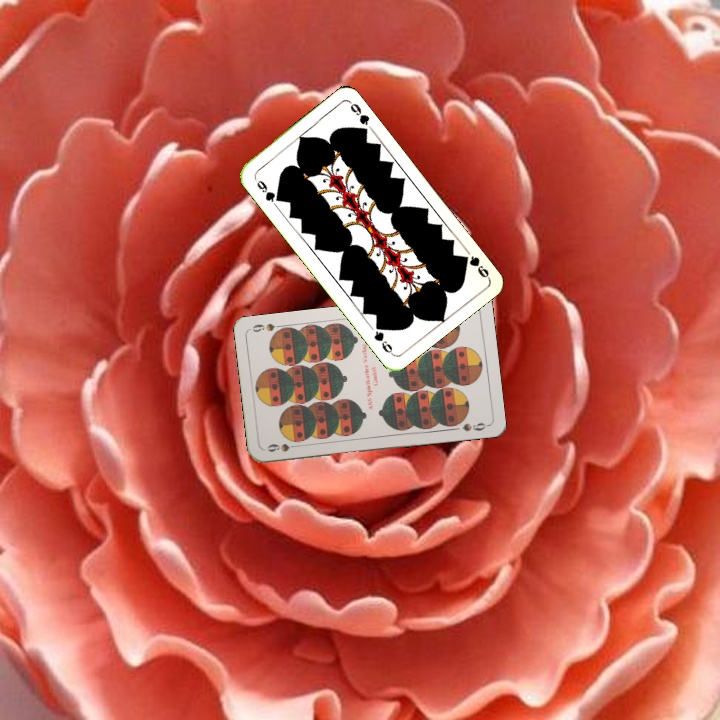G9: (250, 173, 283, 205), (457, 251, 492, 281)
S9: (263, 440, 302, 455)
